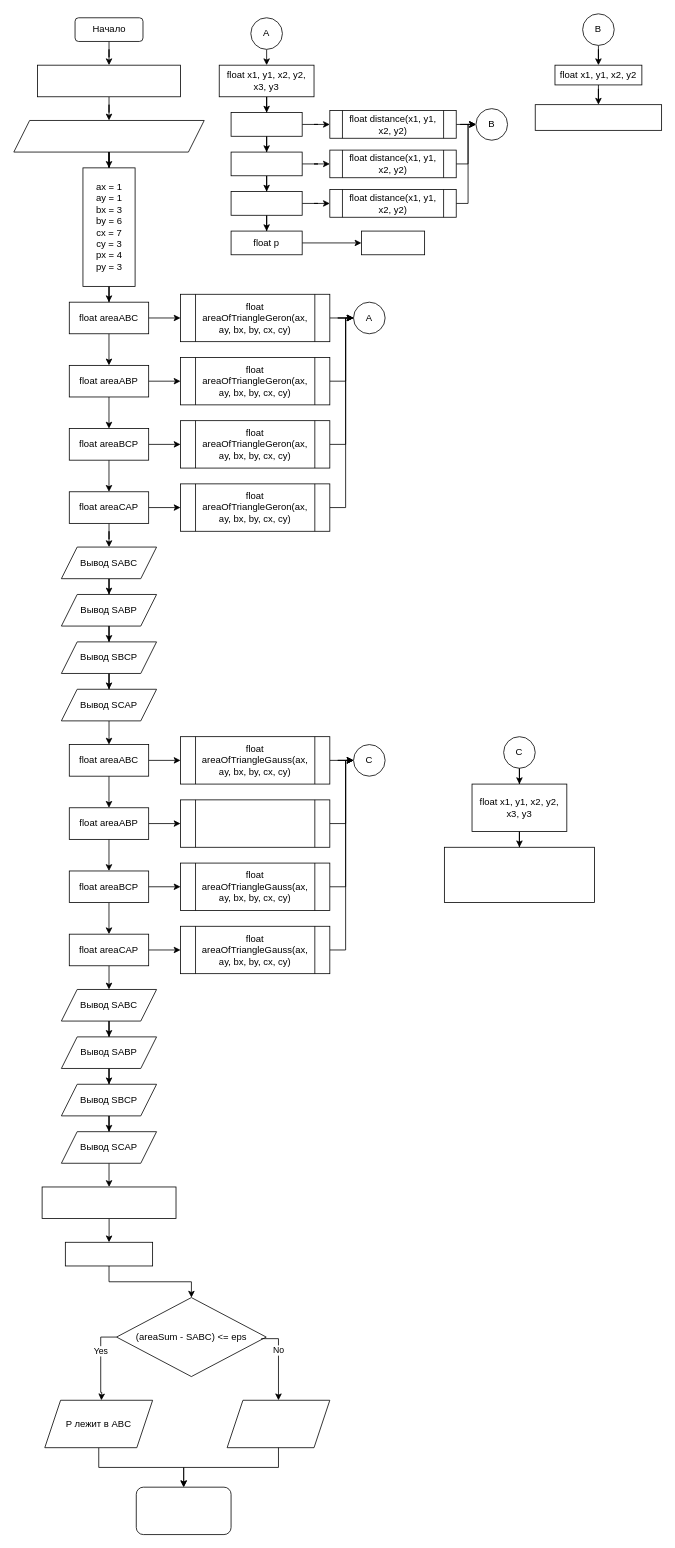
Image size: 675x1548. Some labels were removed from this diagram. Here are the shapes that lost their labels. From the top down, the centre of each, then its label:
At point 109,80: "float ax, ay, bx, by, cx, cy, px, py".
At point 108,136: "Ввод (float) ax, ay, bx, by, cx, cy, px, py".
At point 266,124: "float a".
At point 598,117: "return fabs(sqrt(pow(x2-x1, 2)+pow(y2-y1, 2))".
At point 266,163: "float b".
At point 266,203: "float c".
At point 393,242: "(a + b + c) / 2".
At point 255,823: "float areaOfTriangleGauss (ax, ay, bx, by, cx, cy)".
At point 519,874: "return fabs((x1*y2+x2*y3+x3*y1-x2*y1-x3*y2-x2*y3)/2)".
At point 108,1202: "float areaSum = SABC+SABP+SBCP+SCAP".
At point 109,1253: "float eps = 0.00001".
At point 278,1423: "P не лежит в ABC".
At point 183,1510: "Конец".
